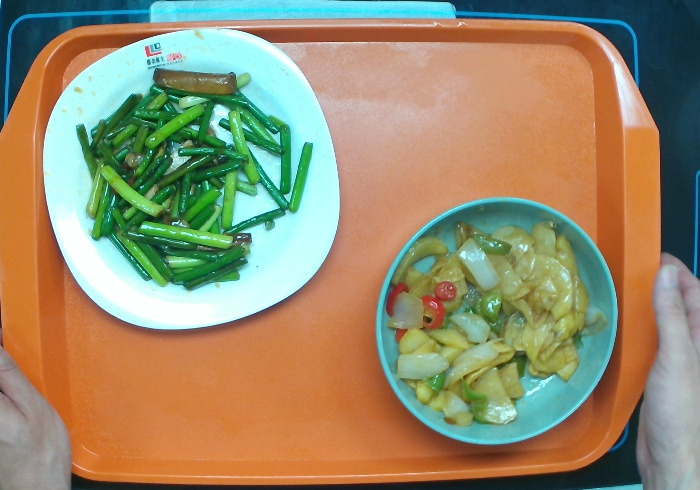ZNLD-Qing_Hua_Yuan_Wan: (367, 190, 629, 457)
ZNLD-Yuan_Jiao_Pan: (39, 23, 343, 334)
